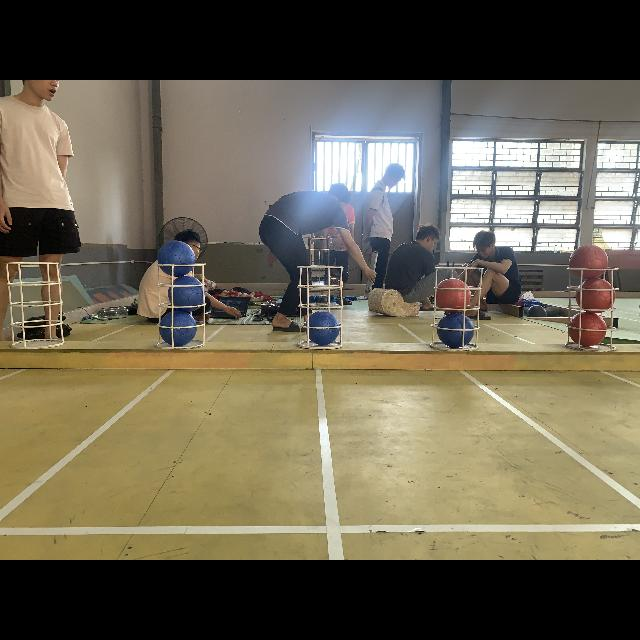B: (158, 310, 198, 346), (157, 240, 196, 276), (436, 312, 474, 348), (168, 277, 202, 311), (306, 311, 339, 345)
R: (576, 278, 616, 312), (568, 312, 606, 346), (570, 245, 608, 278), (436, 278, 470, 312)
